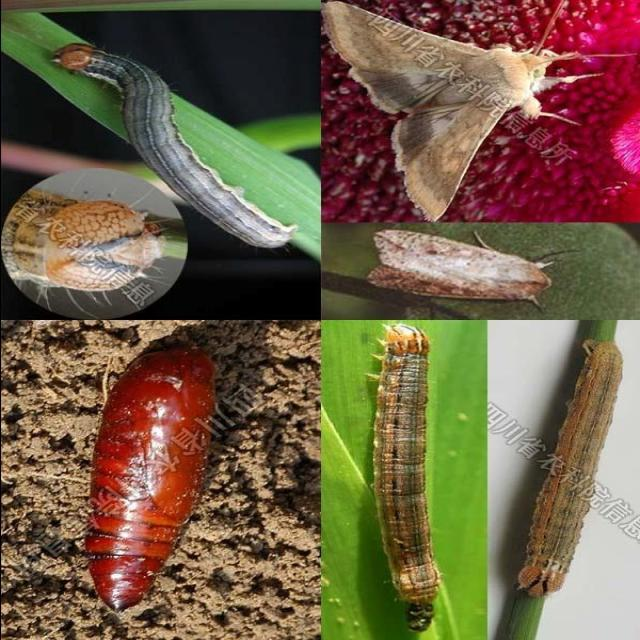army worm: (323, 5, 594, 224), (49, 33, 301, 260), (70, 344, 235, 621), (510, 341, 633, 602), (372, 329, 441, 636), (12, 193, 167, 300), (365, 237, 563, 309)
